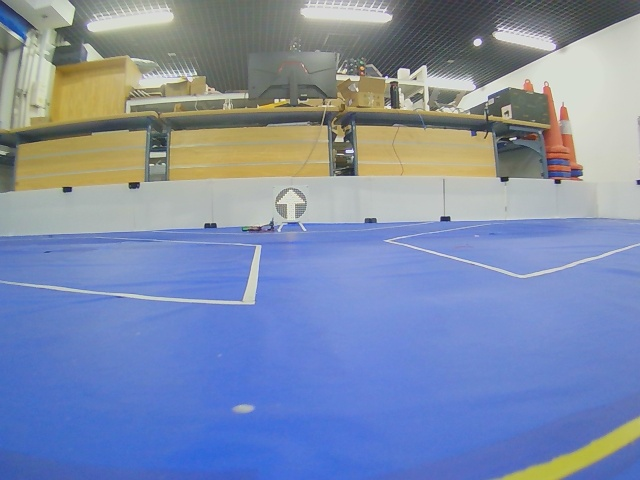straight_yellow: (275, 187, 307, 221)
